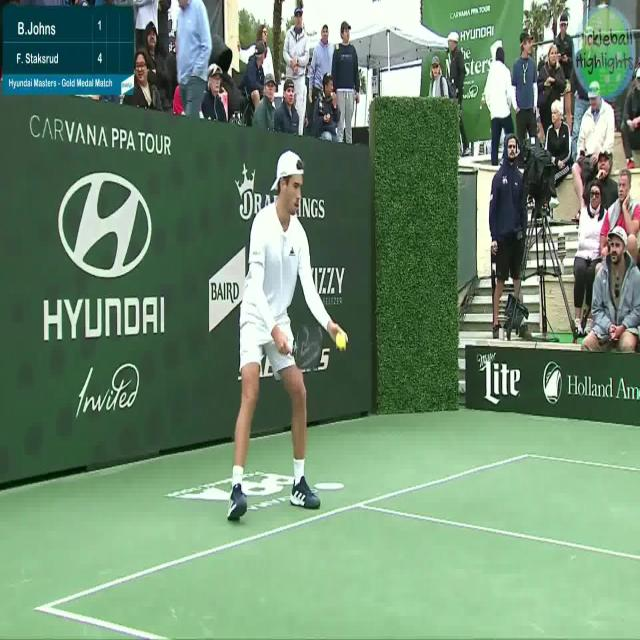ball: (330, 325, 350, 352)
